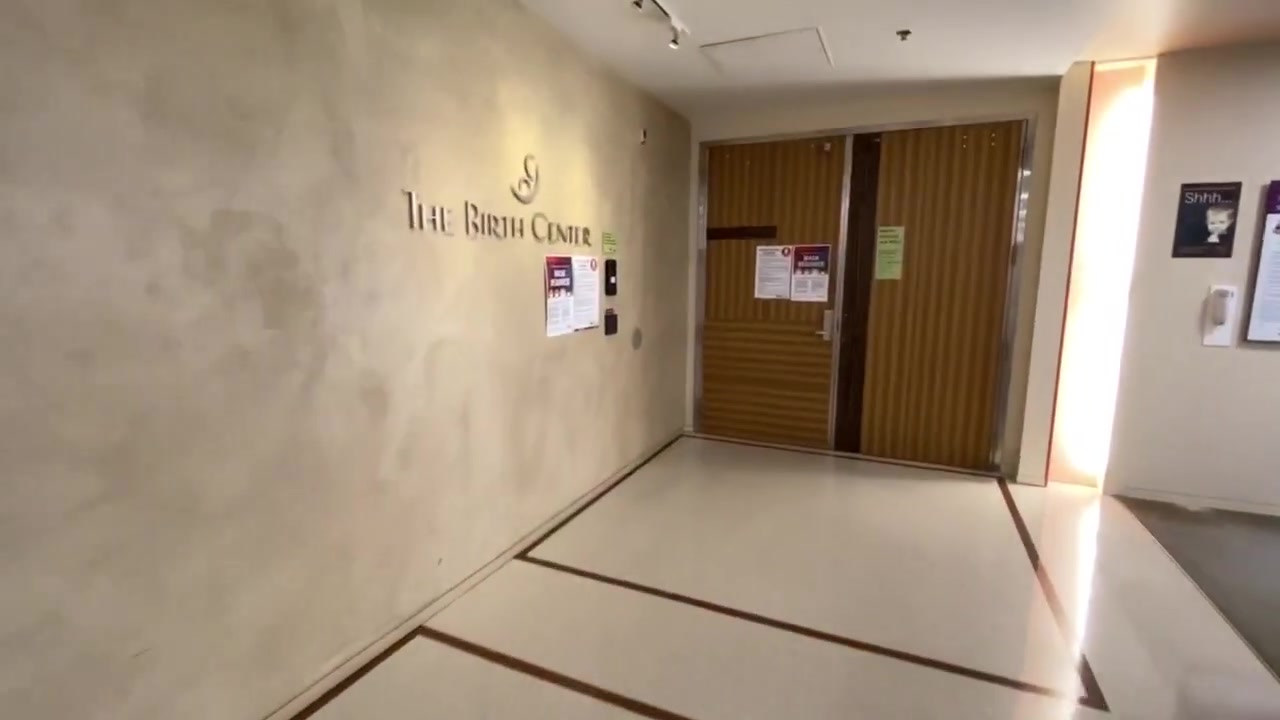dispenser: (1202, 283, 1240, 348)
door_handle: (812, 308, 837, 338)
